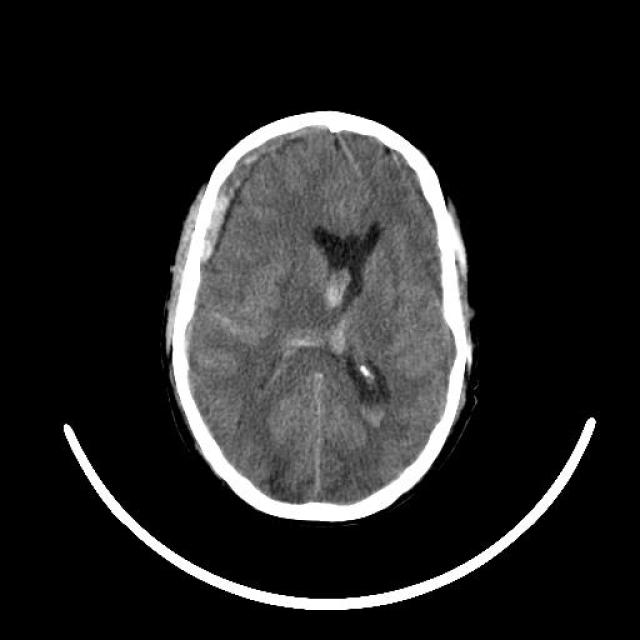Intraventricular: (351, 360, 395, 445), (316, 251, 360, 331)
Subarachnoid: (259, 324, 311, 400), (190, 306, 261, 344)
Subdural: (182, 119, 306, 278)
